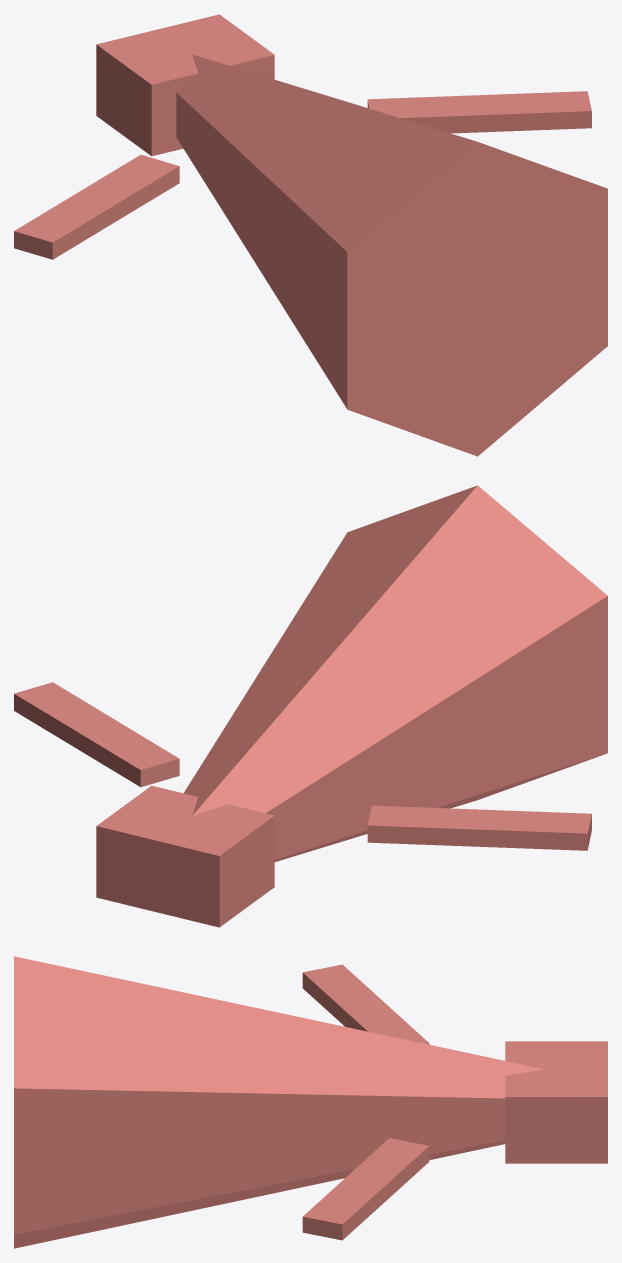
The model's file is Enemy_01.fbx.
3 views of the same model, one above another, from view 1: azimuth 30°, elevation 25°; view 2: azimuth 150°, elevation 25°; view 3: azimuth 270°, elevation 25° (orthographic). The views are drawn at different scales.
Visible parts, largest first — view 1: Enemy_01; view 2: Enemy_01; view 3: Enemy_01.
Part boxes in pixels (x1,y1,x2,y2): Enemy_01: [14, 14, 607, 456]; Enemy_01: [14, 485, 607, 927]; Enemy_01: [14, 956, 607, 1248].
Size of the model in its own units: 2.1 by 1.1 by 2.02.
